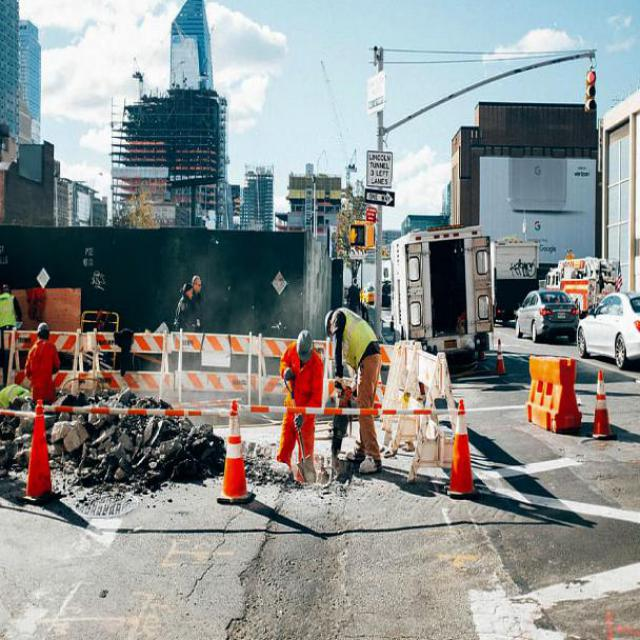helmet: (288, 324, 312, 360), (320, 304, 336, 333), (34, 320, 51, 340)
vest: (334, 304, 376, 369), (282, 346, 318, 415), (26, 342, 56, 389)
